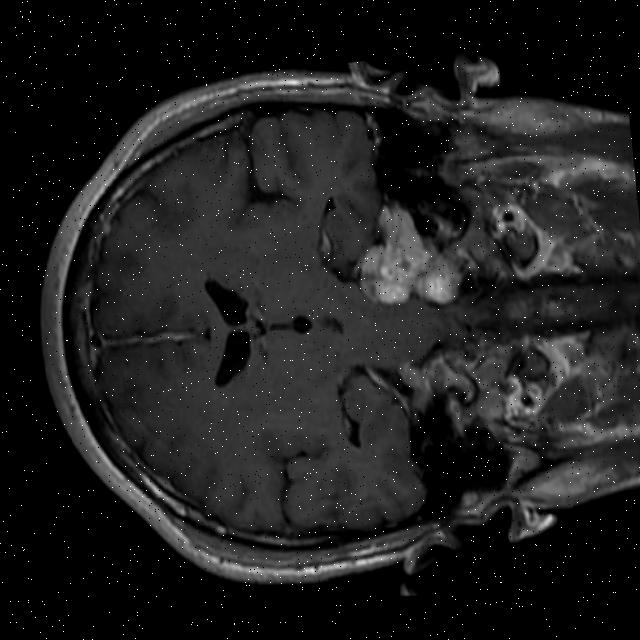Meningioma: (351, 199, 465, 309)
